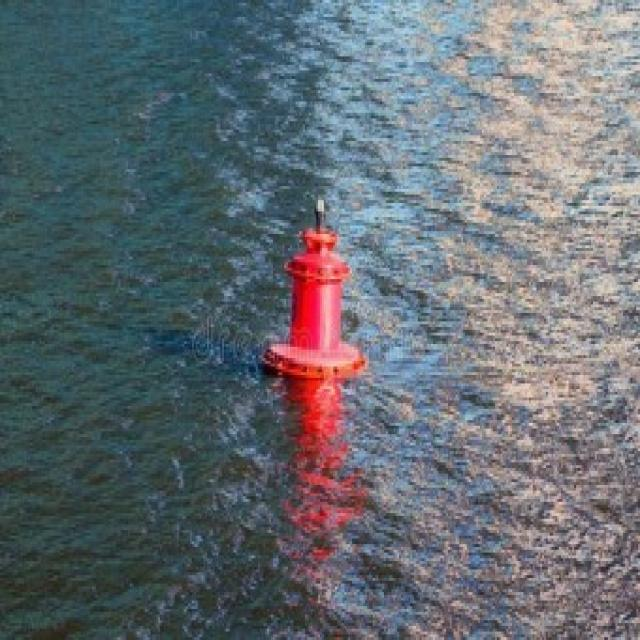2.1 lateral mark -P-: (251, 177, 391, 394)
